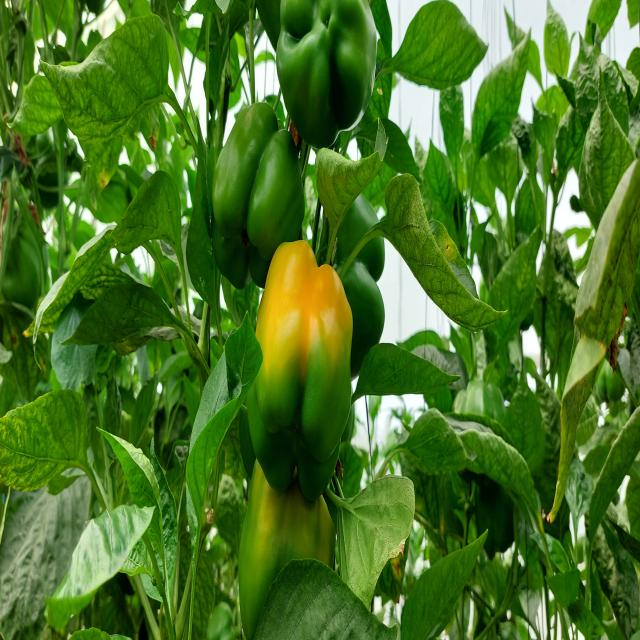Green--Not-ready-to-harvest: (207, 92, 301, 252), (278, 9, 381, 141)
GreenishYellow--Can-be-Harvested: (240, 248, 372, 492), (227, 453, 345, 640)
